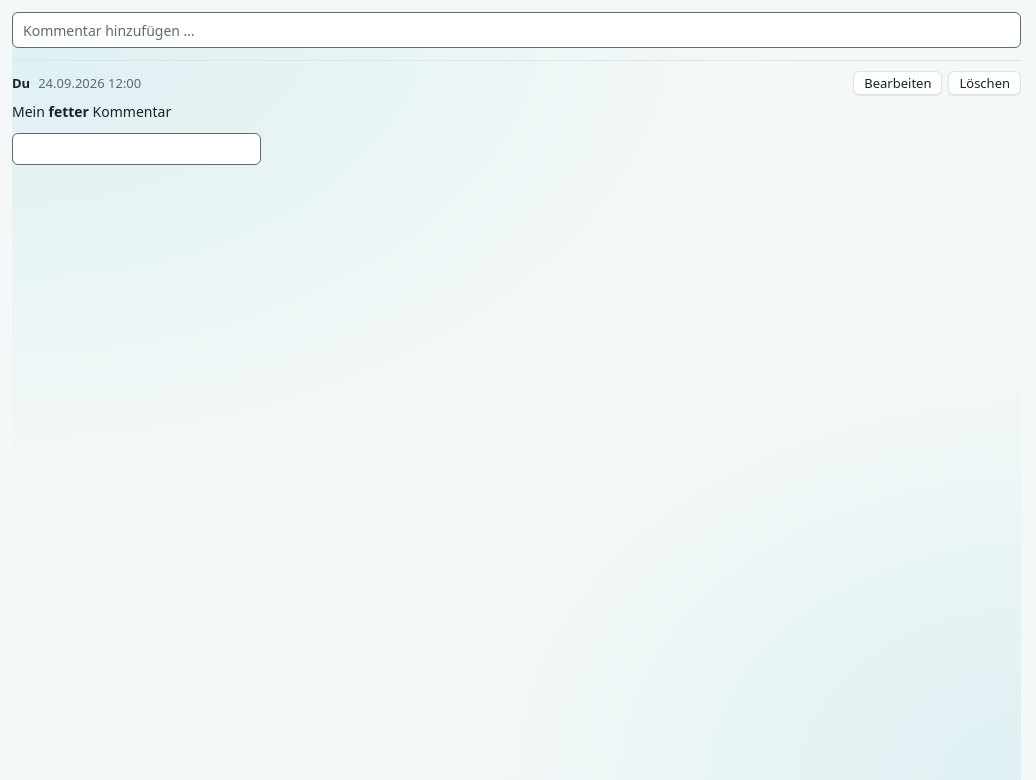
Test: new comment › the focus after sending (MO-7b) › leaves the focus in another field after a sent comment
The image size is (1036, 780).
Click the button "Kommentar hinzufügen …": (109, 30) x1=12 y1=12 x2=1021 y2=48
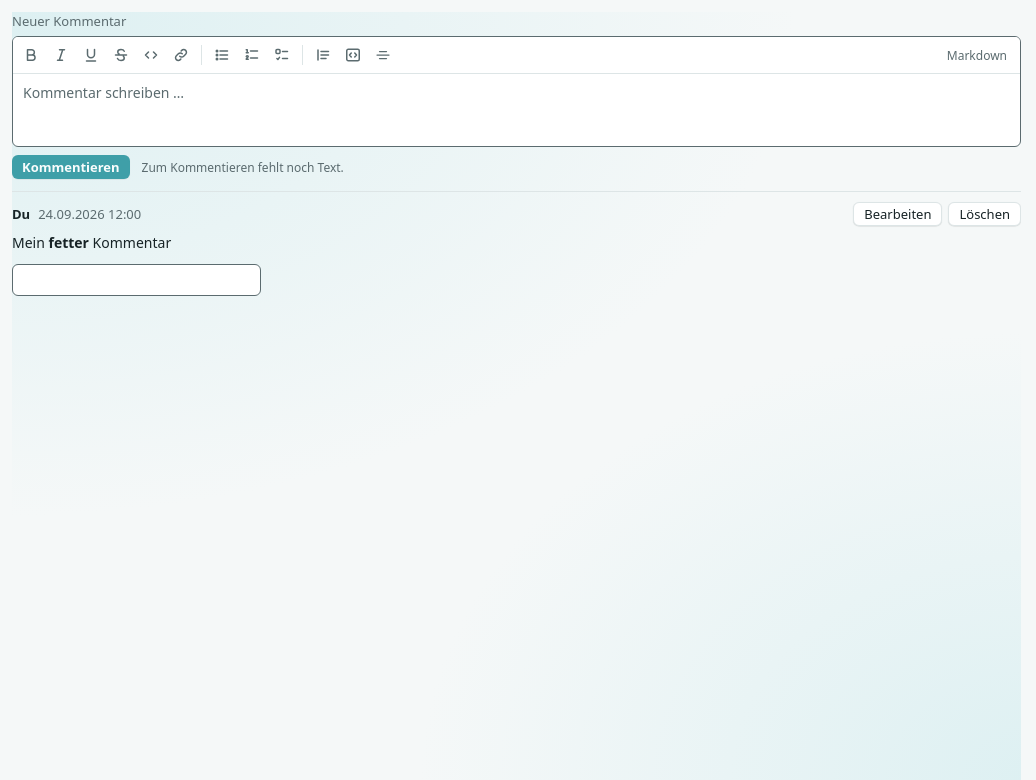
Click the button "Markdown": (977, 55) x1=938 y1=41 x2=1016 y2=69
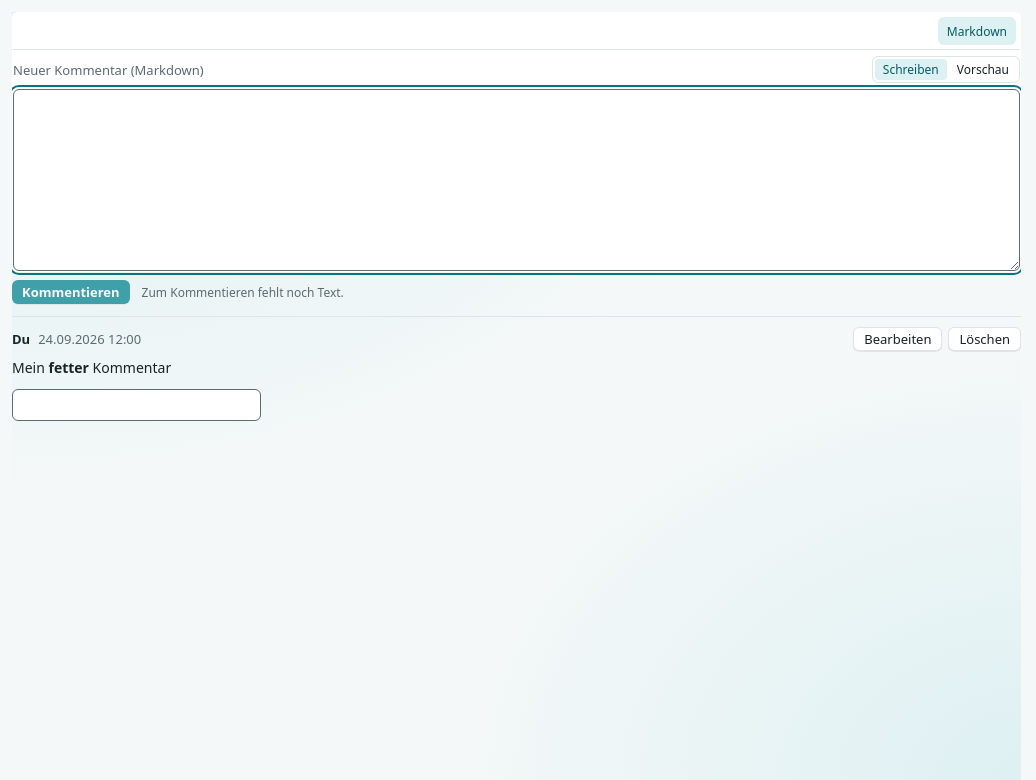
In the text box labelled "Neuer Kommentar (Markdown)": (516, 180) x1=13 y1=89 x2=1020 y2=271, type "Langsam gesendet"
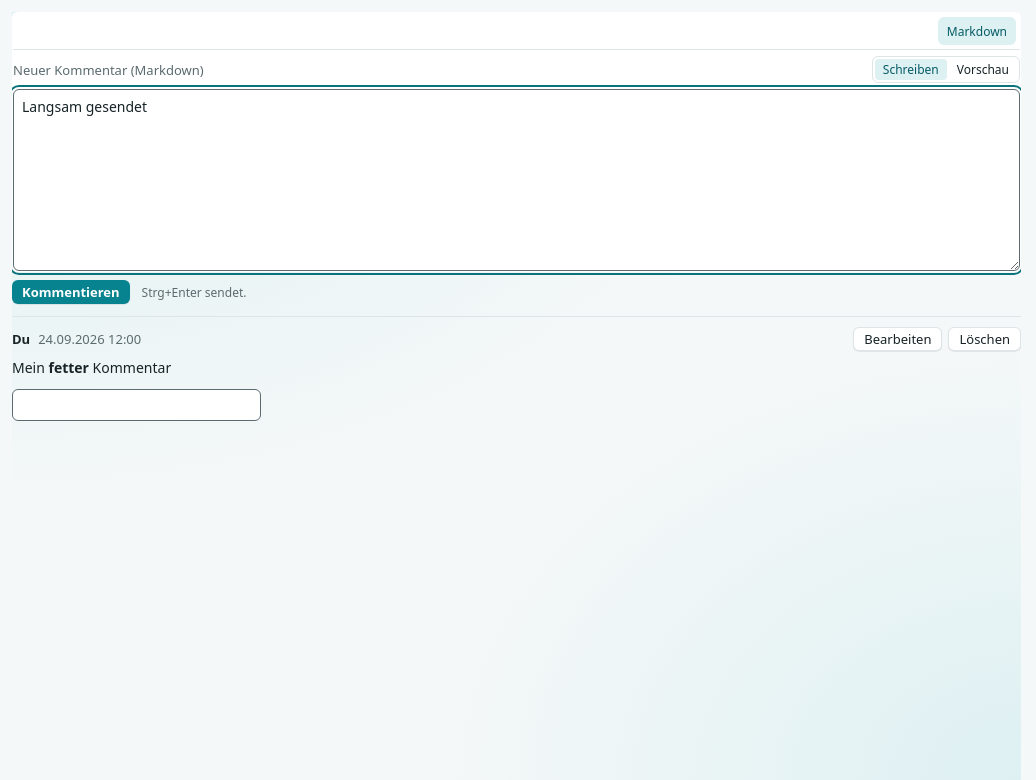
Click the button "Kommentieren": (71, 292) x1=12 y1=280 x2=130 y2=304
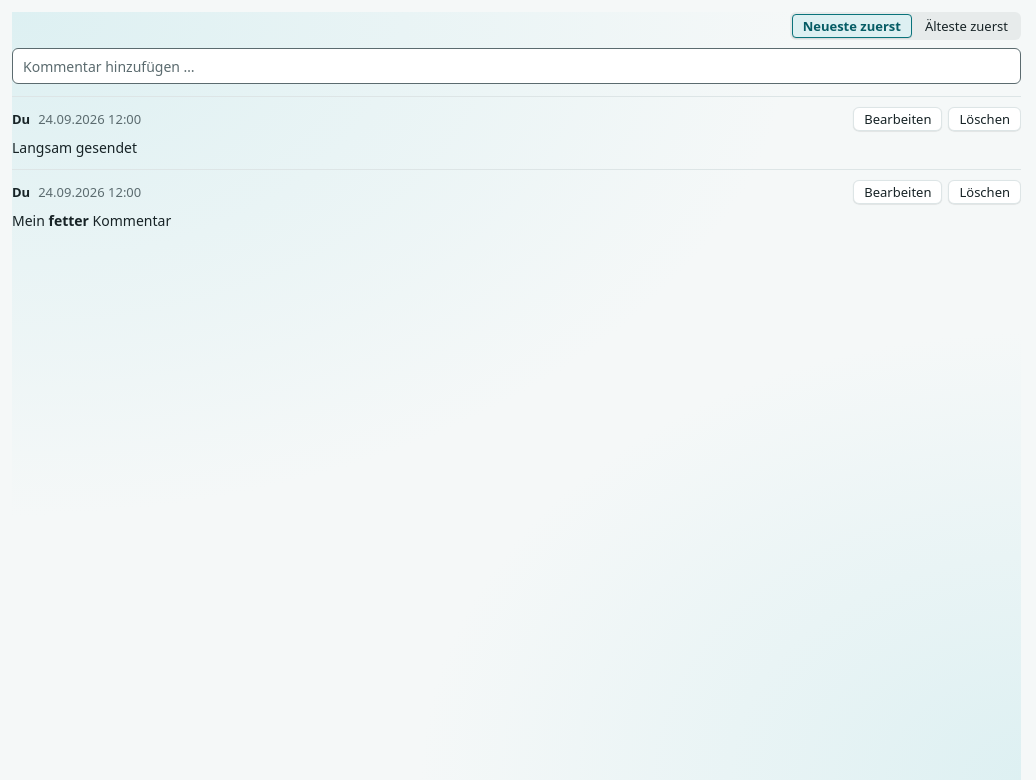
Check: the button "Kommentar hinzufügen …" is shown, box x1=12 y1=48 x2=1021 y2=84
